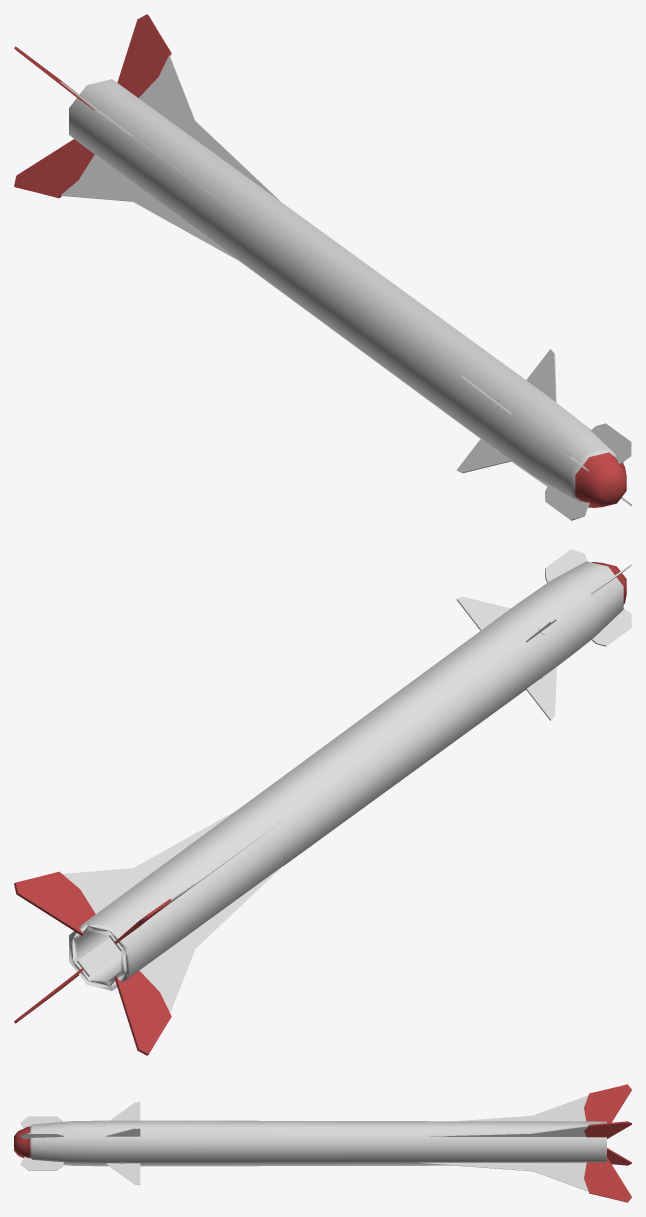
Rendered from missile.fbx.
The picture shows the model from 3 angles, top to bottom: view 1: azimuth 30°, elevation 25°; view 2: azimuth 150°, elevation 25°; view 3: azimuth 270°, elevation 25°; orthographic projection. The views are drawn at different scales.
Visible parts, largest first — view 1: body1, wing (×2), attachi (×2), middlewing (×2), front_wing (×2); view 2: body1, wing (×3), attachi (×2), middlewing (×2), front_wing (×2); view 3: body1, wing (×3), attachi (×4), middlewing (×3), front_wing (×3).
Part boxes in pixels (x1,y1,x2,y2): body1: (69, 79, 626, 508); wing (×2): (61, 55, 279, 261); attachi (×2): (14, 14, 171, 198); middlewing (×2): (456, 349, 556, 473); front_wing (×2): (545, 423, 631, 520); body1: (69, 561, 626, 990); wing (×3): (62, 810, 283, 1012); attachi (×2): (14, 871, 171, 1055); middlewing (×2): (456, 596, 556, 720); front_wing (×2): (545, 549, 631, 646); body1: (14, 1120, 606, 1166); wing (×3): (418, 1095, 588, 1191); attachi (×4): (584, 1084, 631, 1202); middlewing (×3): (105, 1102, 140, 1184); front_wing (×3): (20, 1116, 64, 1170).
Size of the model in its own units: 31.67 by 31.67 by 218.
